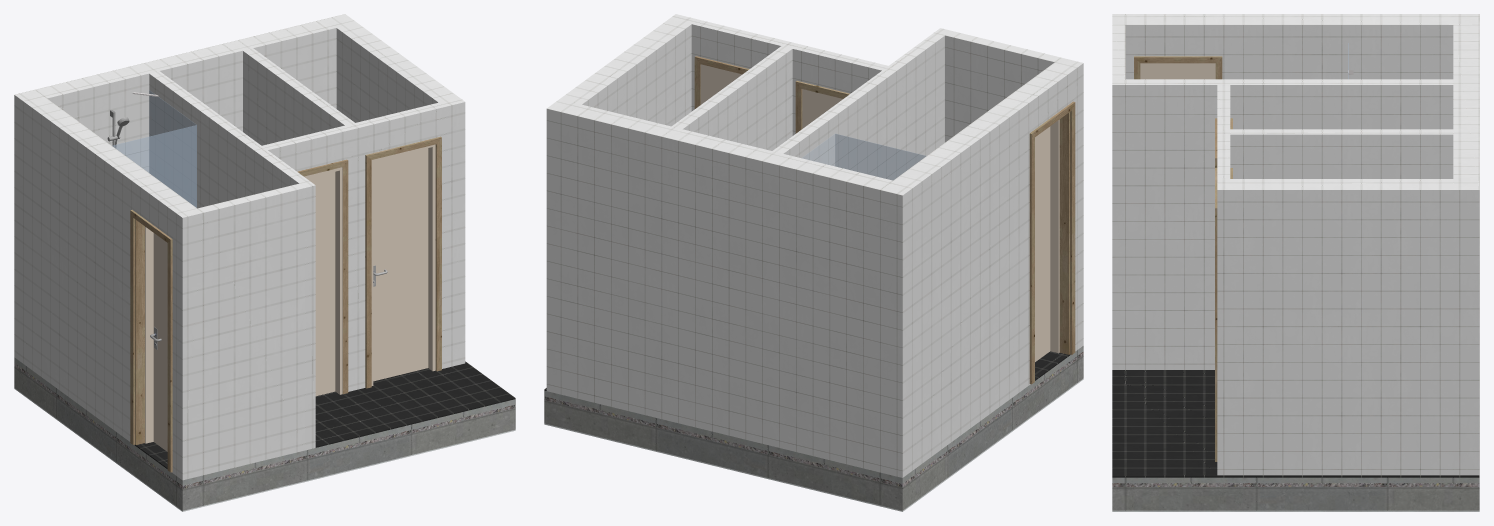
Rendered from glass-bathroom-model.glb.
3 renders of one model, left to right at view 1: azimuth 30°, elevation 25°; view 2: azimuth 150°, elevation 25°; view 3: azimuth 270°, elevation 25°, orthographic. The views are drawn at different scales.
Visible parts, largest first — view 1: Плитка - Белая Матовая 15x15, Пластик - Ламинат, Бетон - 02, Дерево - Сосна Сучковатая Горизонтальная, Плитка - Светло-Коричневая 15x15, Стекло - Прозрачное Быстрое, Бетон - 04, Изоляция - Целлюлоза, Штукатурка - Высококачественная Белая; view 2: Плитка - Белая Матовая 15x15, Бетон - 02, Пластик - Ламинат, Дерево - Сосна Сучковатая Горизонтальная, Бетон - 04, Стекло - Прозрачное Быстрое, Изоляция - Целлюлоза, Штукатурка - Высококачественная Белая; view 3: Плитка - Белая Матовая 15x15, Плитка - Светло-Коричневая 15x15, Бетон - 02, Бетон - 04, Дерево - Сосна Сучковатая Горизонтальная, Изоляция - Целлюлоза, Пластик - Ламинат, Штукатурка - Высококачественная Белая.
Boxes of the visible parts, x1,y1,x2,y2 form: Плитка - Белая Матовая 15x15: (14, 14, 465, 480); Пластик - Ламинат: (145, 144, 435, 451); Бетон - 02: (14, 366, 515, 510); Дерево - Сосна Сучковатая Горизонтальная: (130, 136, 441, 472); Плитка - Светло-Коричневая 15x15: (135, 361, 515, 468); Стекло - Прозрачное Быстрое: (112, 90, 196, 207); Бетон - 04: (14, 357, 515, 485); Изоляция - Целлюлоза: (14, 363, 515, 488); Штукатурка - Высококачественная Белая: (14, 388, 515, 511); Плитка - Белая Матовая 15x15: (546, 14, 1083, 477); Бетон - 02: (544, 355, 1083, 510); Пластик - Ламинат: (700, 64, 1059, 361); Дерево - Сосна Сучковатая Горизонтальная: (694, 56, 1075, 384); Бетон - 04: (544, 346, 1083, 483); Стекло - Прозрачное Быстрое: (802, 133, 925, 180); Изоляция - Целлюлоза: (544, 351, 1083, 487); Штукатурка - Высококачественная Белая: (544, 378, 1083, 511); Плитка - Белая Матовая 15x15: (1112, 14, 1479, 475); Плитка - Светло-Коричневая 15x15: (1112, 370, 1479, 477); Бетон - 02: (1112, 487, 1479, 510); Бетон - 04: (1112, 477, 1479, 483); Дерево - Сосна Сучковатая Горизонтальная: (1134, 56, 1232, 461); Изоляция - Целлюлоза: (1112, 483, 1479, 486); Пластик - Ламинат: (1140, 63, 1215, 79); Штукатурка - Высококачественная Белая: (1112, 510, 1479, 511).
Size of the model in its own units: 3.22 by 2.7 by 2.8.
Materials: 17 (9 with a texture image).
